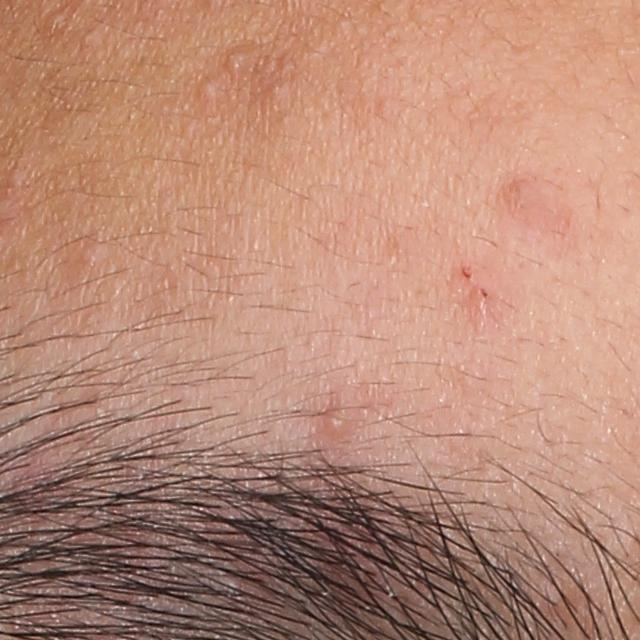comedo: (219, 50, 252, 77), (262, 79, 294, 106), (78, 242, 110, 267), (42, 8, 65, 33)
